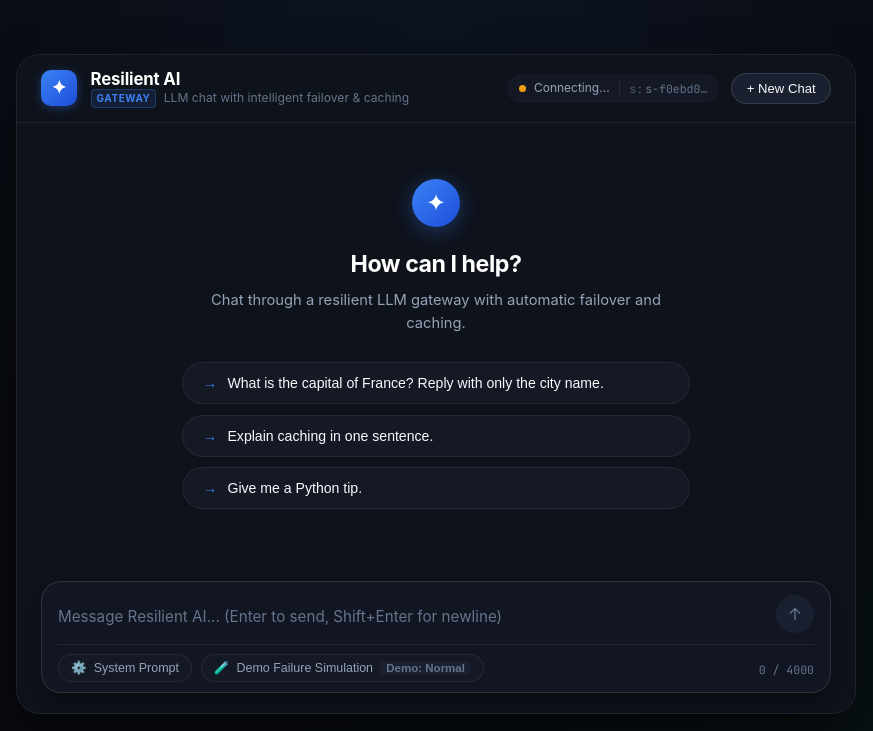
Test: Resilient AI Frontend Component & Integration Tests › displays user-friendly error message on 503 provider unavailability without crashing
Replace the text in the text box with test id "chat-input" with "This will fail" at coordinates (411, 618), box [58,602,764,634]
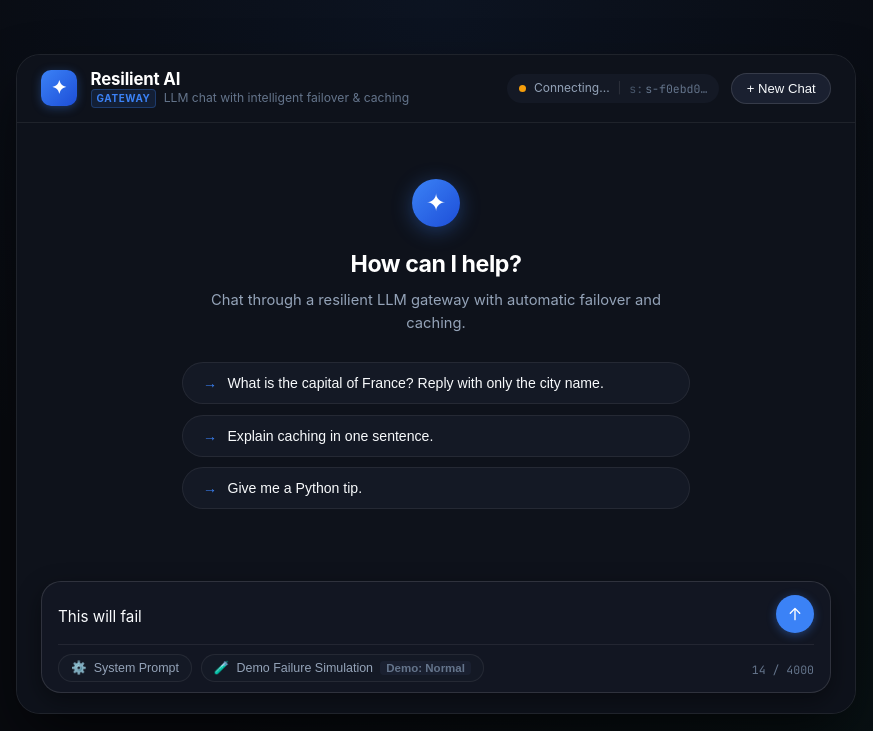
Click the button with test id "send-button" at coordinates (795, 614), box [776,596,814,634]
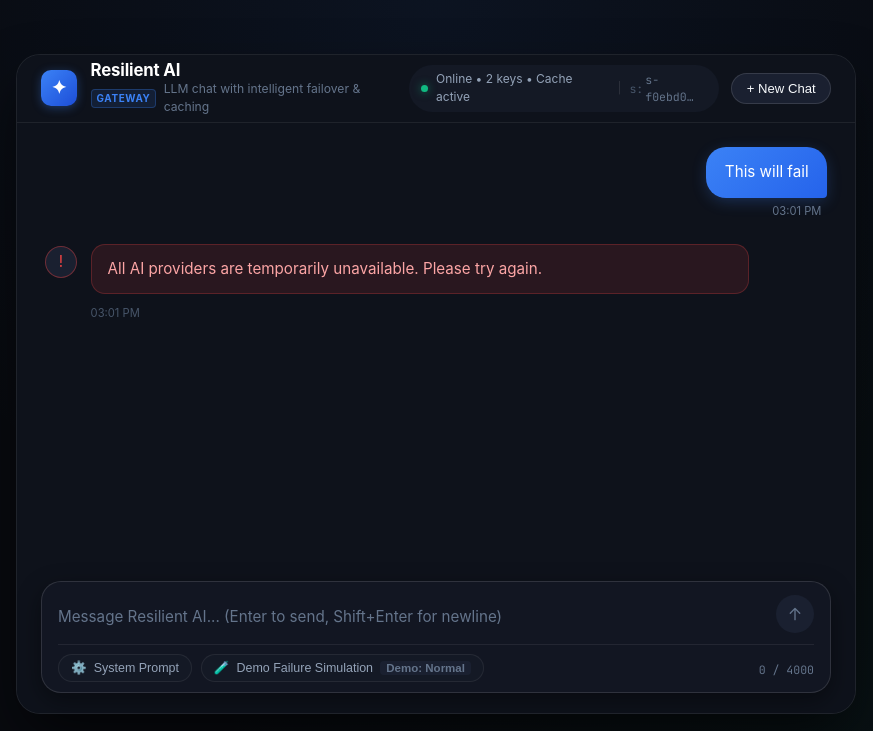
Expected: the text box with test id "chat-input" is enabled, [58,602,764,634]
Result: the text "All AI providers are temporarily unavailable" is shown at [108,259,542,278]
